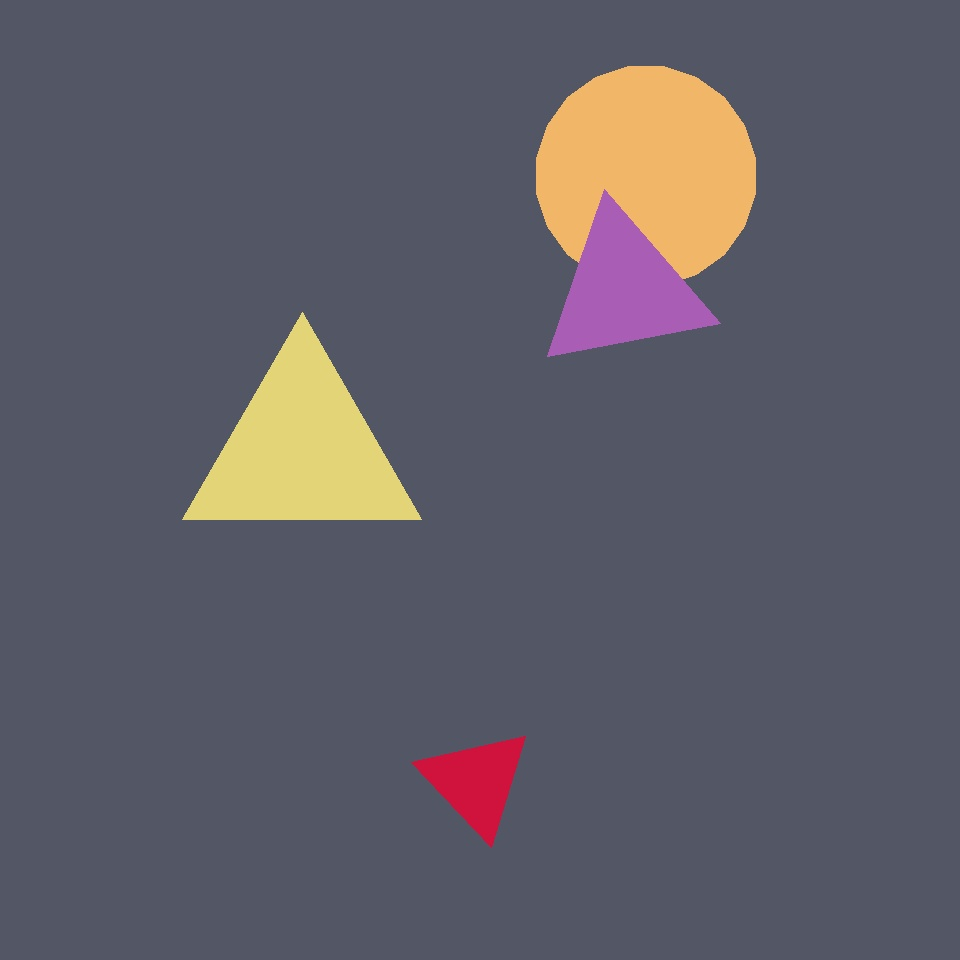circle: (182, 346, 422, 554), (538, 206, 710, 374), (784, 277, 917, 398), (419, 726, 533, 838)
square: (608, 216, 917, 525), (124, 533, 418, 827), (193, 354, 433, 594), (633, 709, 846, 923), (352, 583, 489, 719)
triangle: (537, 66, 756, 286)
